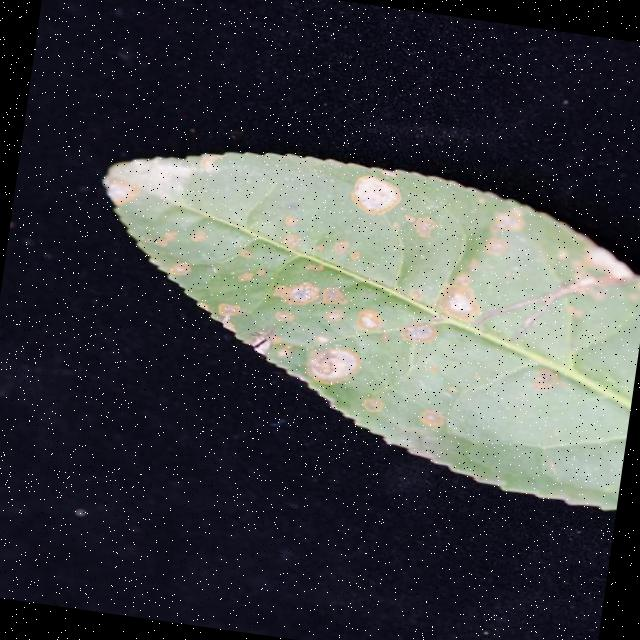Tea algae leaf spot: (76, 120, 581, 440)
